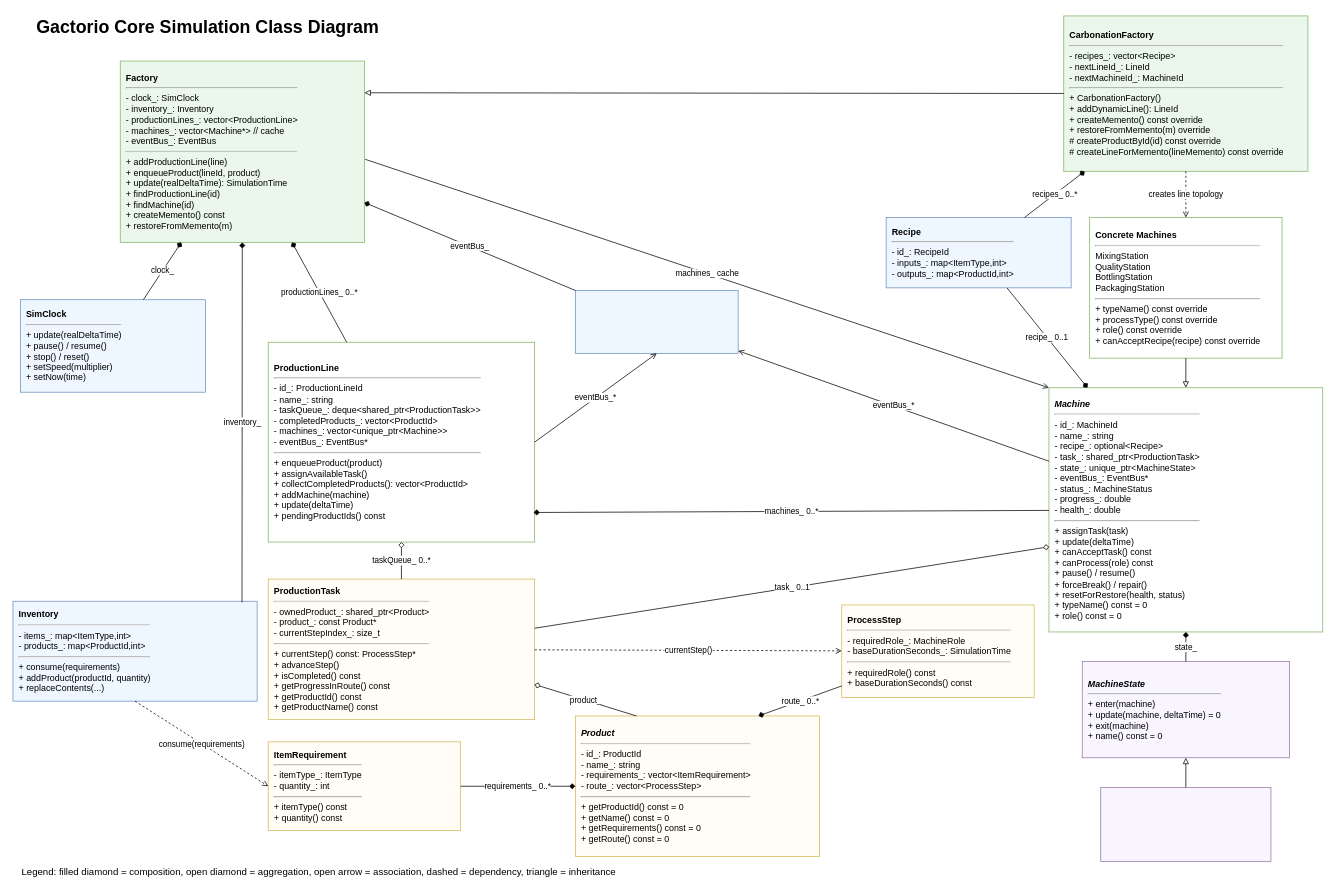
The diagram is 1336 pixels wide and 892 high, and some of its shapes have lost their labels. Here are the shapes that lost their labels. From the top down, the centre of each, then its label:
the point at 656,321: EventBus + subscribe(observer) + publish(event) const
the point at 1185,824: Concrete States IdleState WorkingState BrokenState MaintenanceState
